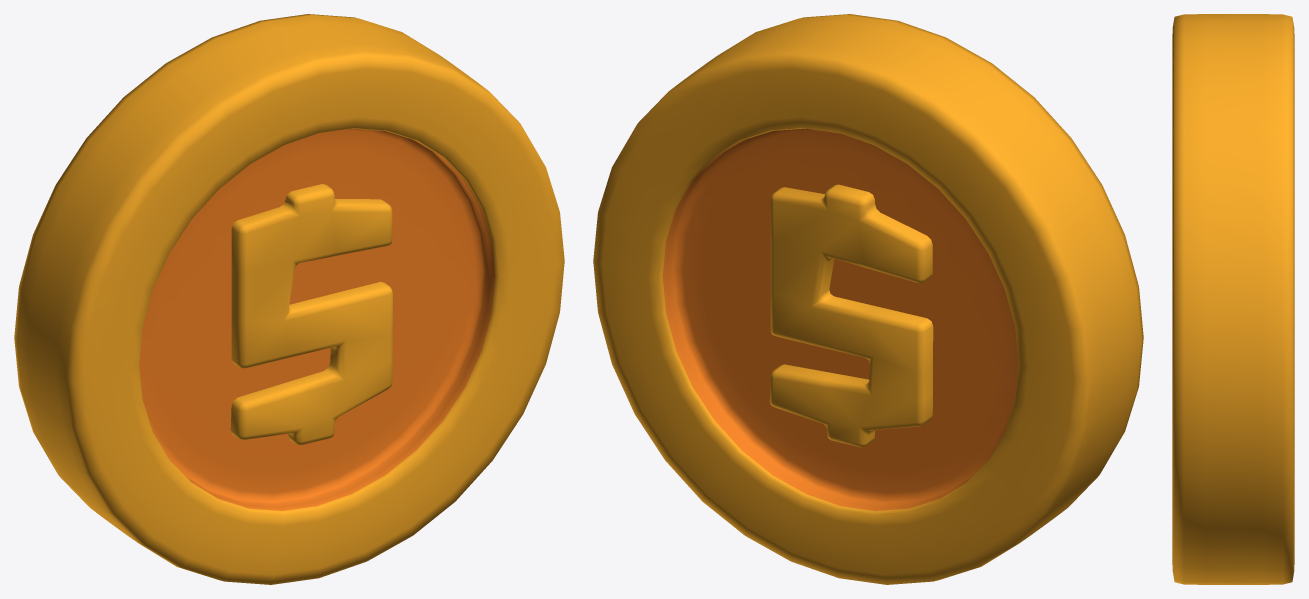
File: Coins_4.fbx
The picture shows the model from 3 angles, left to right: view 1: azimuth 30°, elevation 25°; view 2: azimuth 150°, elevation 25°; view 3: azimuth 270°, elevation 25°; orthographic projection.
Visible parts, largest first — view 1: Cylinder.003; view 2: Cylinder.003; view 3: Cylinder.003.
Part boxes in pixels (<box>): Cylinder.003: <box>14,14,564,584</box>; Cylinder.003: <box>593,14,1143,584</box>; Cylinder.003: <box>1172,14,1294,584</box>.
Size of the model in its own units: 195 by 195 by 41.77.
